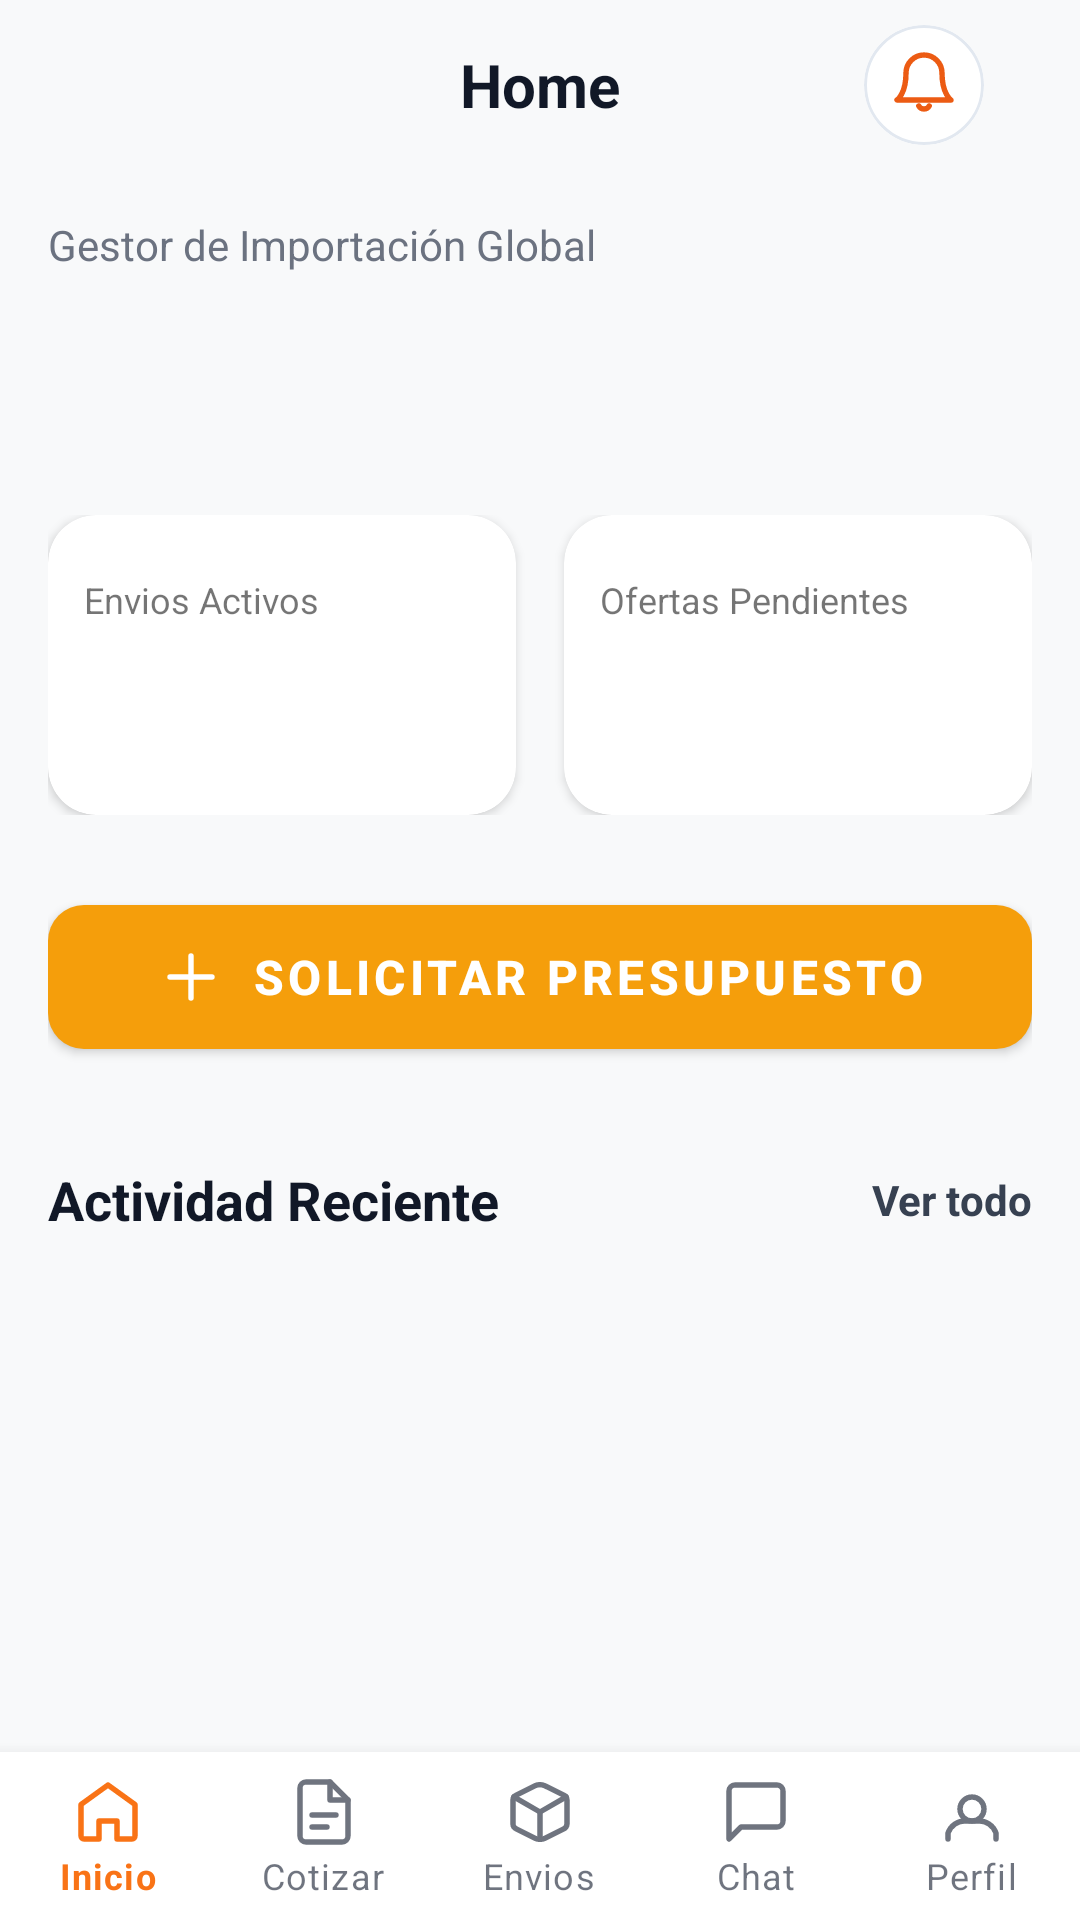

Icons on this 1080*1920 Android screen, each with its box as (x1, y1, x2, y2):
bell: (894, 52, 954, 112)
